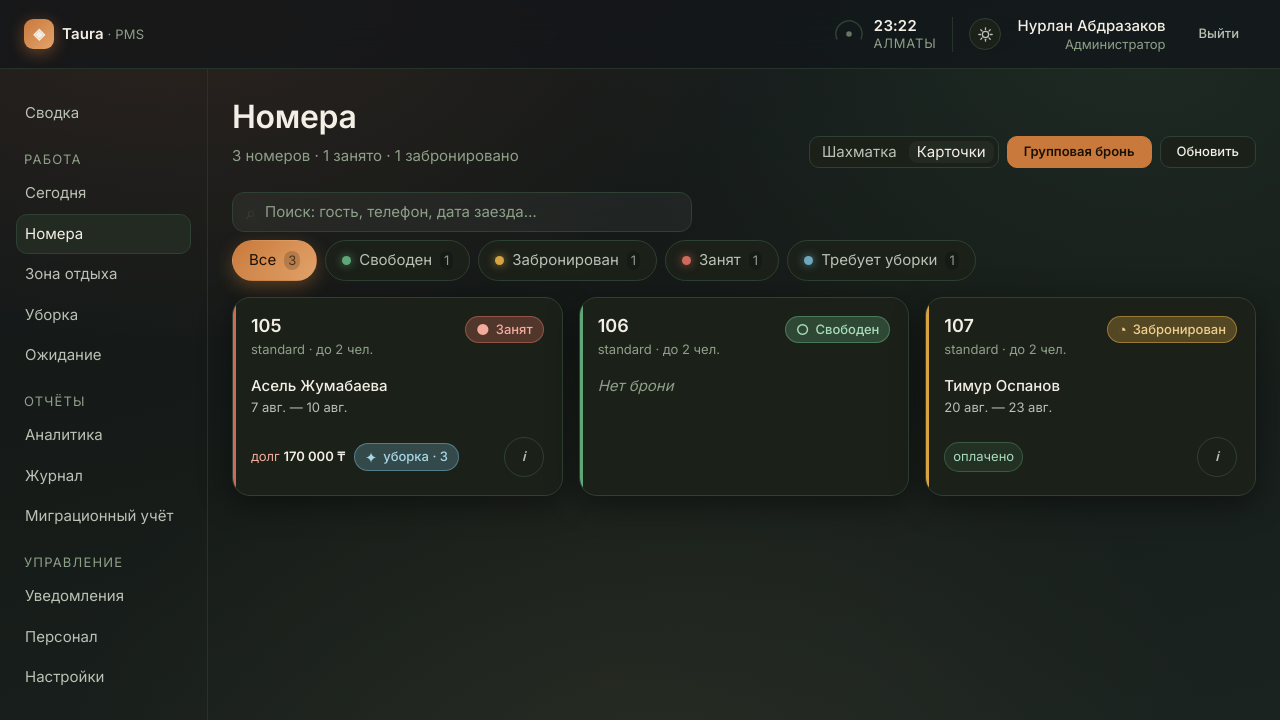
Scenario: §5 search and filter › filters by status
The width and height of the screenshot is (1280, 720).
Expected: the button "105" is shown, [251,316,544,417]
Click the button "Свободен 1".
click(398, 261)  # box [325,240,470,281]
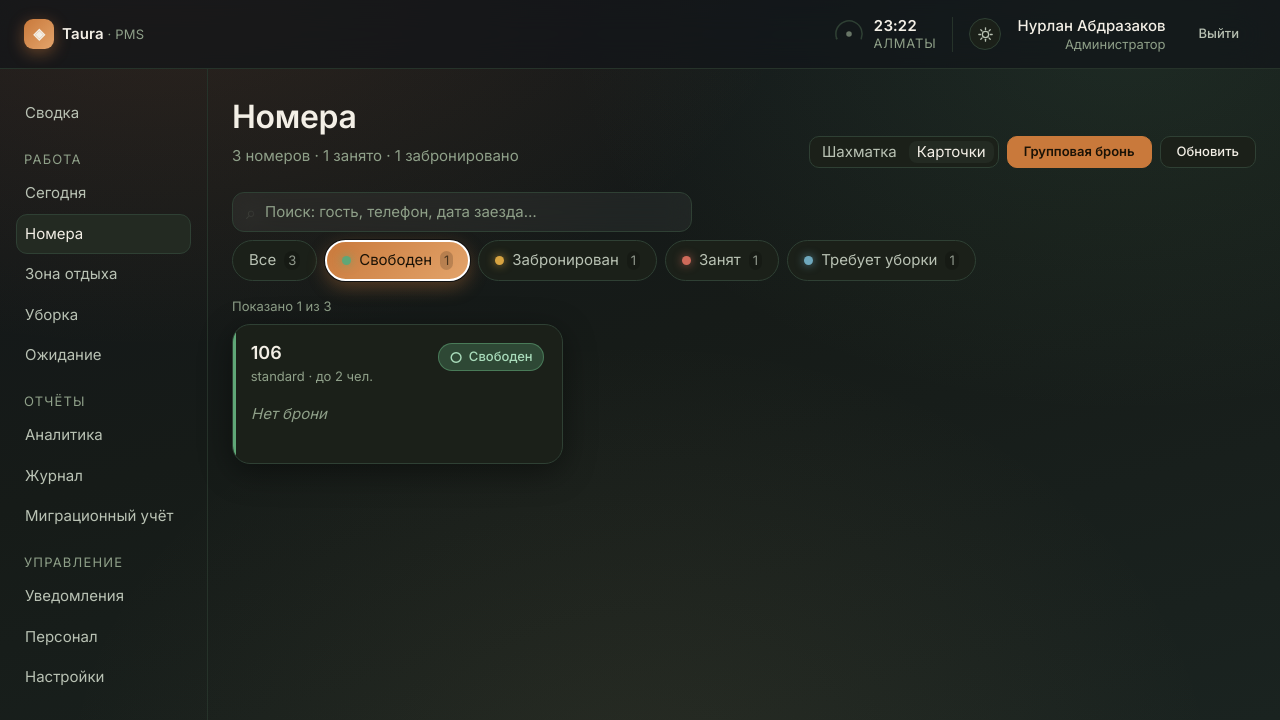
Expected: the button "106 standard · до 2 чел. ○ Свободен Нет брони" is shown, [251,343,544,425]
Expected: the button "105" is gone
